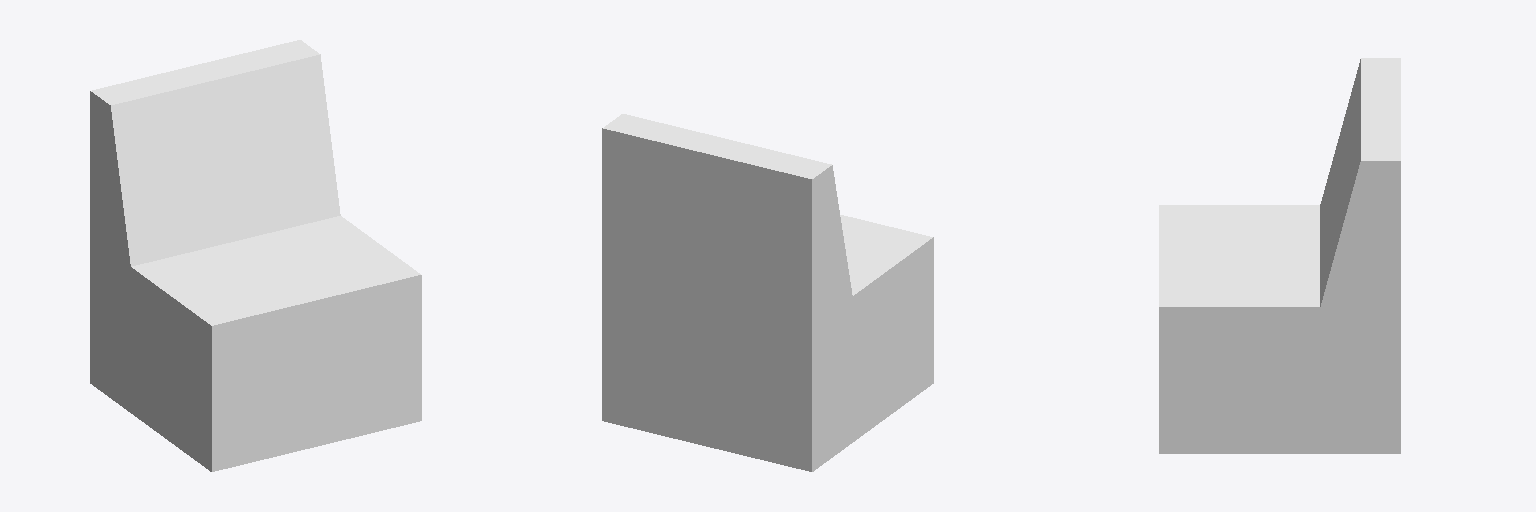
File: Chair.obj
The picture shows the model from 3 angles: view 1: azimuth 30°, elevation 25°; view 2: azimuth 150°, elevation 25°; view 3: azimuth 270°, elevation 25°; orthographic projection.
Visible parts, largest first — view 1: Chair; view 2: Chair; view 3: Chair.
Boxes of the visible parts, x1,y1,x2,y2 form: Chair: [90, 40, 421, 471]; Chair: [602, 114, 933, 471]; Chair: [1159, 58, 1400, 453].
Size of the model in its own units: 0.75 by 1 by 0.75.